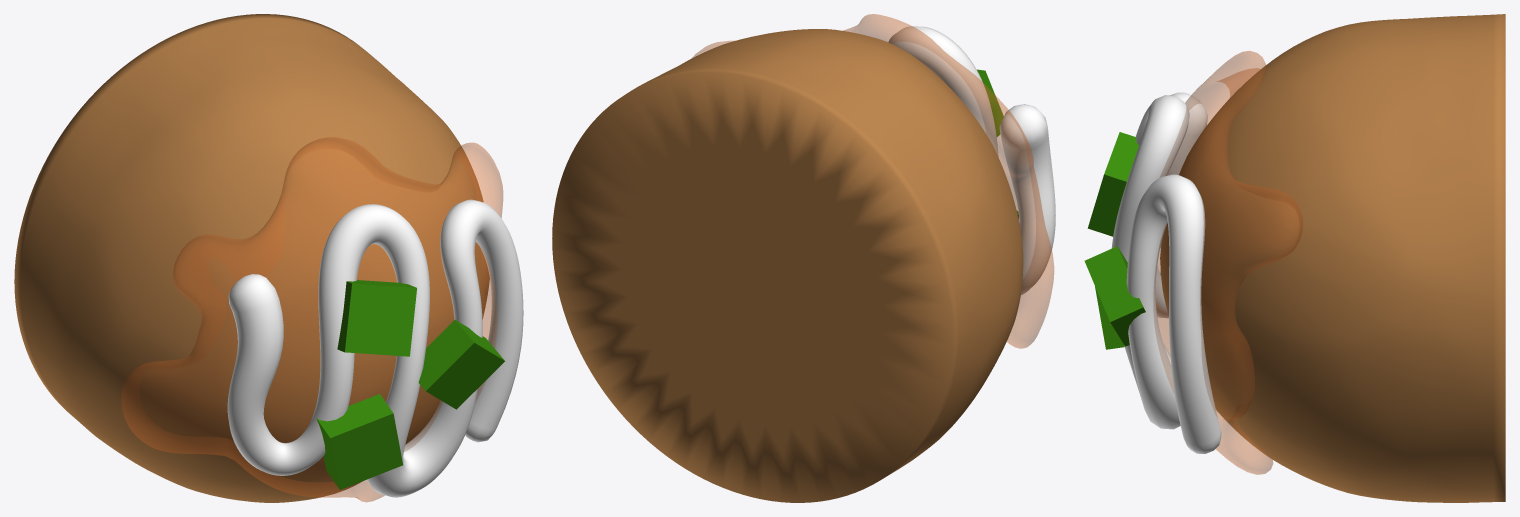
Rendered from takoyaki.glb.
The picture shows the model from 3 angles, left to right: view 1: azimuth 30°, elevation 25°; view 2: azimuth 150°, elevation 25°; view 3: azimuth 270°, elevation 25°; orthographic projection. The views are drawn at different scales.
Parts seen in each view (by area): view 1: Pick.006, Pick.010, NurbsPath.028, Cube.739, Cube.737, Cube.738; view 2: Pick.006, Pick.010, NurbsPath.028; view 3: Pick.006, Pick.010, NurbsPath.028, Cube.738, Cube.737, Cube.739.
Boxes of the visible parts, left/top/right/bottom form: Pick.006: left=14, top=14, right=489, bottom=502; Pick.010: left=121, top=137, right=502, bottom=501; NurbsPath.028: left=227, top=199, right=523, bottom=497; Cube.739: left=316, top=394, right=402, bottom=489; Cube.737: left=337, top=280, right=416, bottom=356; Cube.738: left=418, top=320, right=504, bottom=409; Pick.006: left=552, top=29, right=1023, bottom=502; Pick.010: left=691, top=14, right=1053, bottom=348; NurbsPath.028: left=888, top=26, right=1055, bottom=294; Pick.006: left=1160, top=14, right=1505, bottom=502; Pick.010: left=1153, top=51, right=1302, bottom=474; NurbsPath.028: left=1111, top=92, right=1221, bottom=453; Cube.738: left=1084, top=246, right=1145, bottom=346; Cube.737: left=1087, top=132, right=1138, bottom=236; Cube.739: left=1095, top=286, right=1124, bottom=349.
Bounding box in the file's own units: 13.49 × 13.63 × 11.62.
